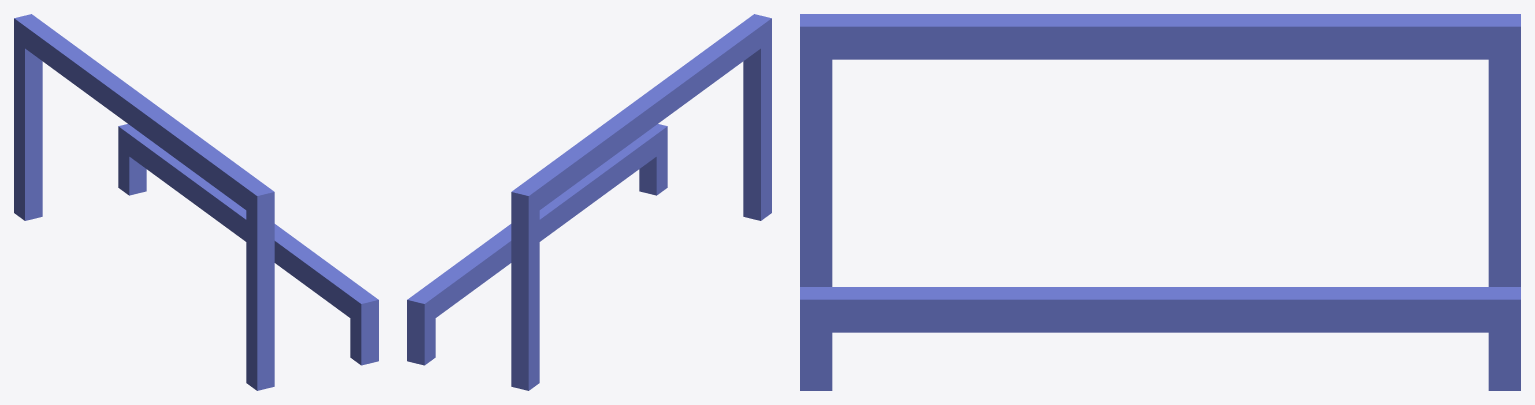
Rendered from mounting_2.fbx.
3 views of the same model, side by side, from view 1: azimuth 30°, elevation 25°; view 2: azimuth 150°, elevation 25°; view 3: azimuth 270°, elevation 25° (orthographic). The views are drawn at different scales.
Visible parts, largest first — view 1: solar_panel_base_1; view 2: solar_panel_base_1; view 3: solar_panel_base_1.
Part boxes in pixels (x1,y1,x2,y2): solar_panel_base_1: [14, 14, 378, 390]; solar_panel_base_1: [407, 14, 771, 390]; solar_panel_base_1: [800, 14, 1520, 390].
Size of the model in its own units: 202 by 310 by 700.
